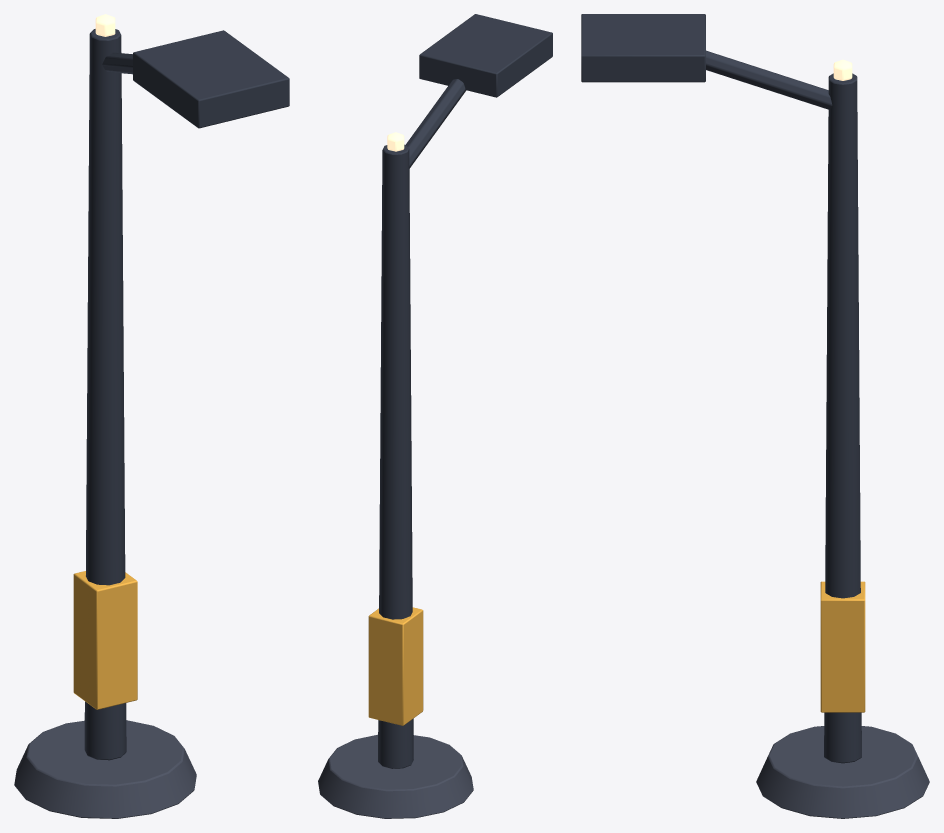
Rendered from laterne.fbx.
The picture shows the model from 3 angles, left to right: view 1: azimuth 30°, elevation 25°; view 2: azimuth 150°, elevation 25°; view 3: azimuth 270°, elevation 25°; orthographic projection. The views are drawn at different scales.
Parts seen in each view (by area): view 1: laterne_Koerper; view 2: laterne_Koerper; view 3: laterne_Koerper.
Part boxes in pixels (x1=…): laterne_Koerper: x1=14, y1=14, x2=289, y2=818; laterne_Koerper: x1=318, y1=14, x2=552, y2=818; laterne_Koerper: x1=581, y1=14, x2=929, y2=818.
Bounding box in the file's own units: 0.6961 × 3.31 × 1.4.
